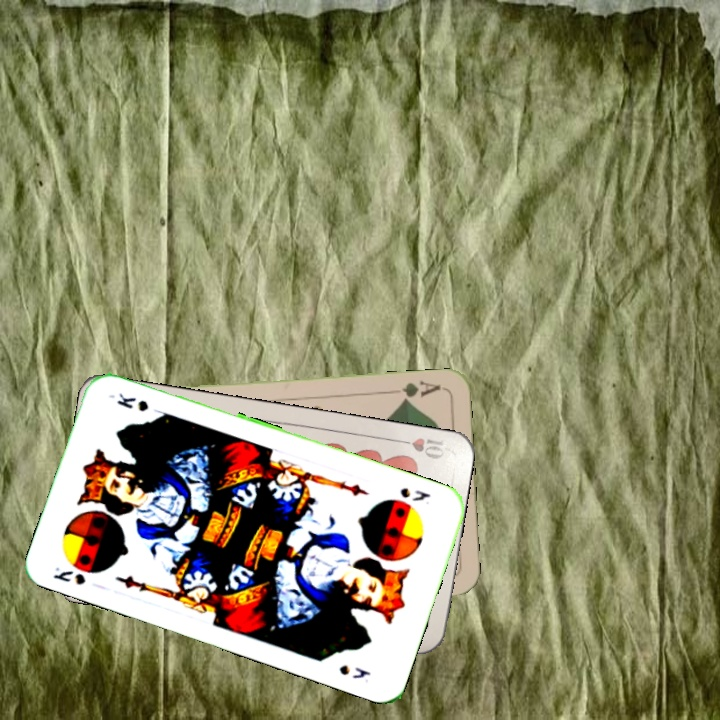GA: (385, 377, 443, 405)
H10: (390, 433, 447, 462)
SK: (49, 563, 88, 588), (396, 483, 433, 504)
